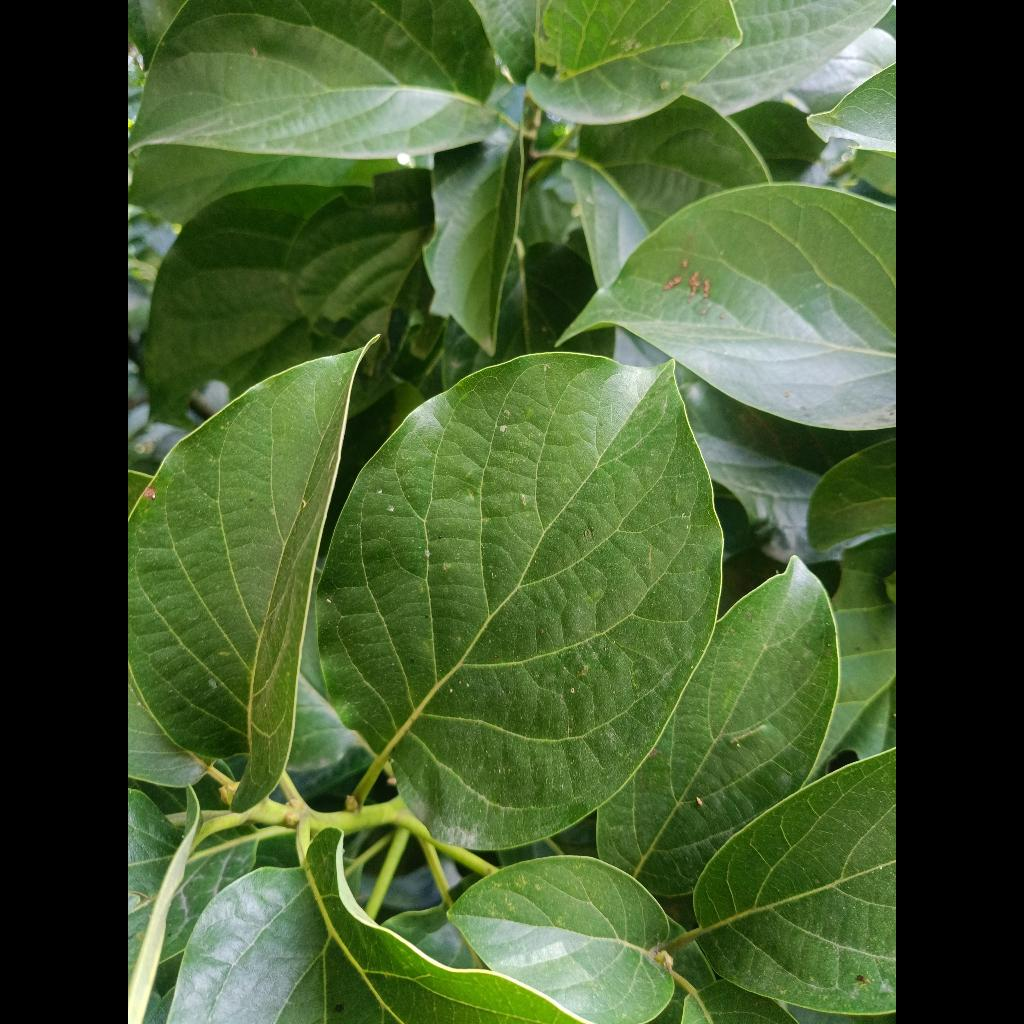hoja_sana: (317, 354, 721, 848)
